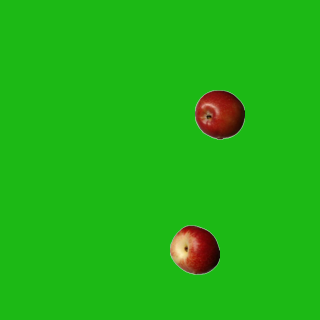Apple Braeburn: (194, 89, 244, 139)
Nectarine: (169, 224, 219, 274)
